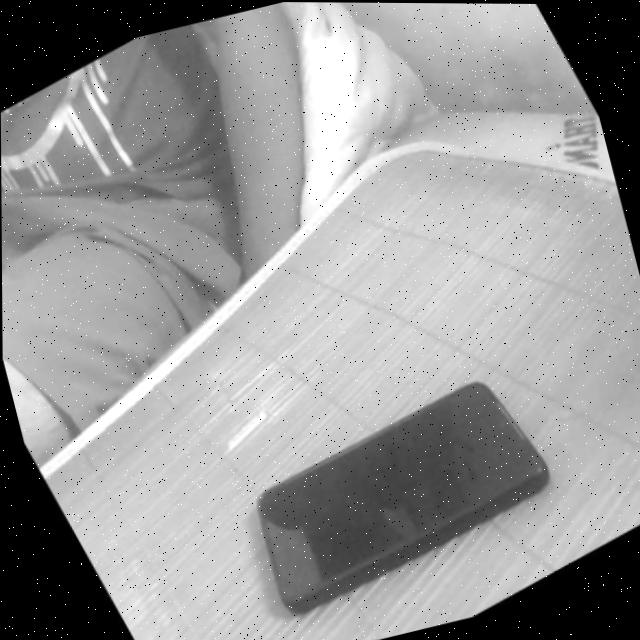phone: (178, 322, 594, 640)
